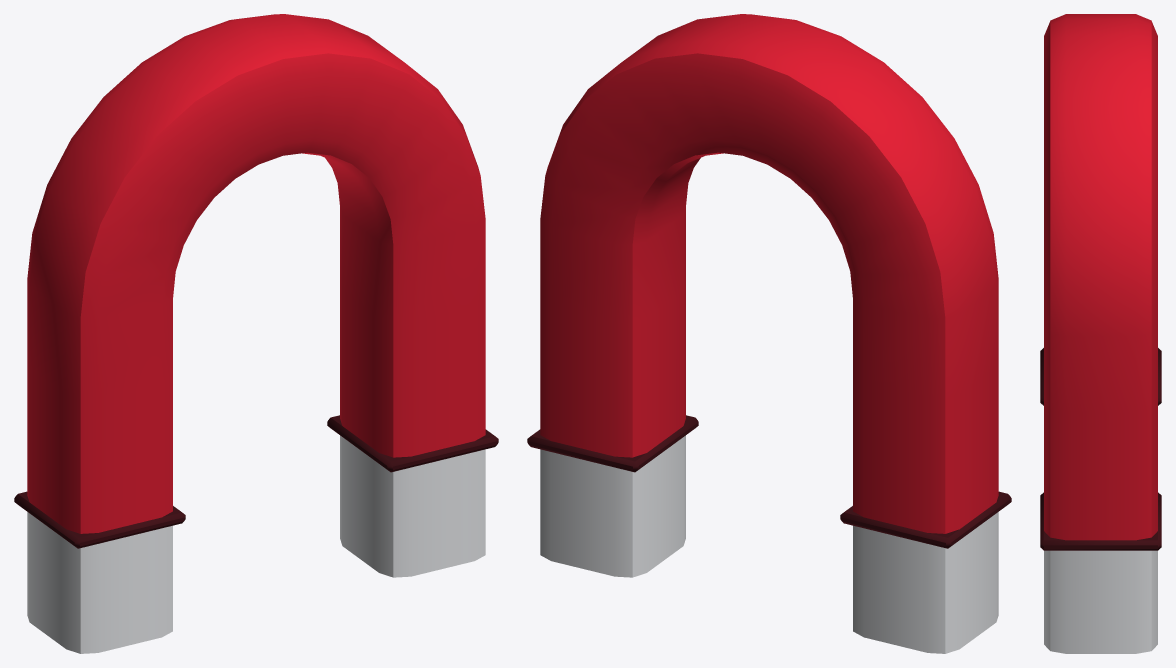
File: magnet.glb
3 renders of one model, left to right at view 1: azimuth 30°, elevation 25°; view 2: azimuth 150°, elevation 25°; view 3: azimuth 270°, elevation 25°, orthographic. The views are drawn at different scales.
Parts seen in each view (by area): view 1: Magnet_Body; view 2: Magnet_Body; view 3: Magnet_Body.
Part boxes in pixels (box(x1,y1,x2,y2)): Magnet_Body: box(14, 14, 498, 653); Magnet_Body: box(527, 14, 1011, 653); Magnet_Body: box(1040, 14, 1161, 653).
Size of the model in its own units: 0.732 by 0.91 by 0.192.
